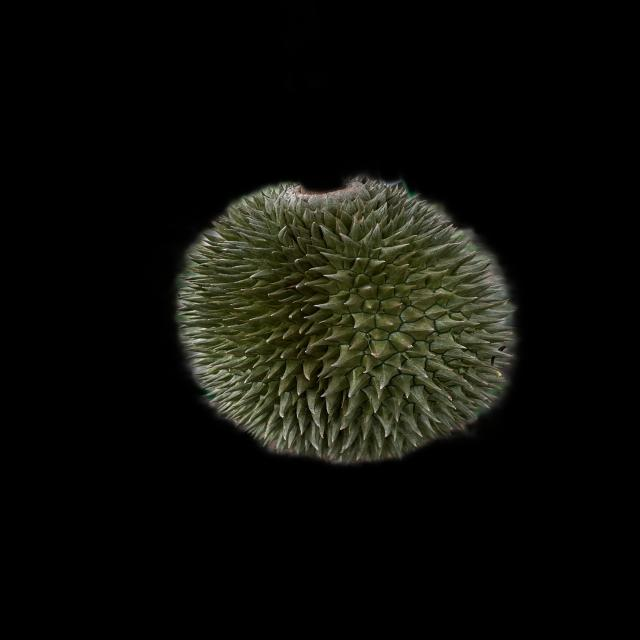immature: (170, 183, 522, 461)
